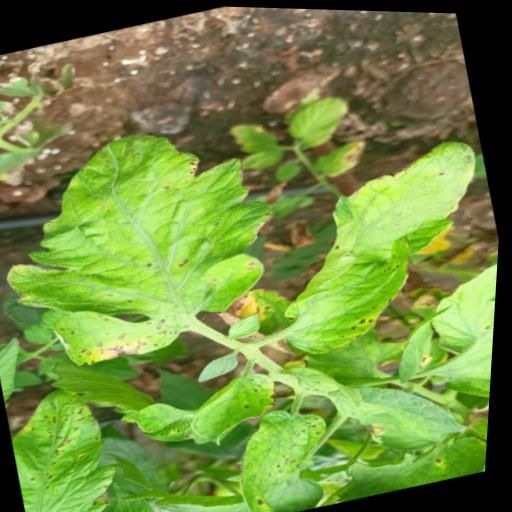Early Blight: (0, 96, 309, 386), (252, 124, 507, 365), (3, 372, 146, 512), (227, 403, 357, 512), (332, 423, 493, 504), (183, 364, 295, 451), (216, 279, 307, 349)
